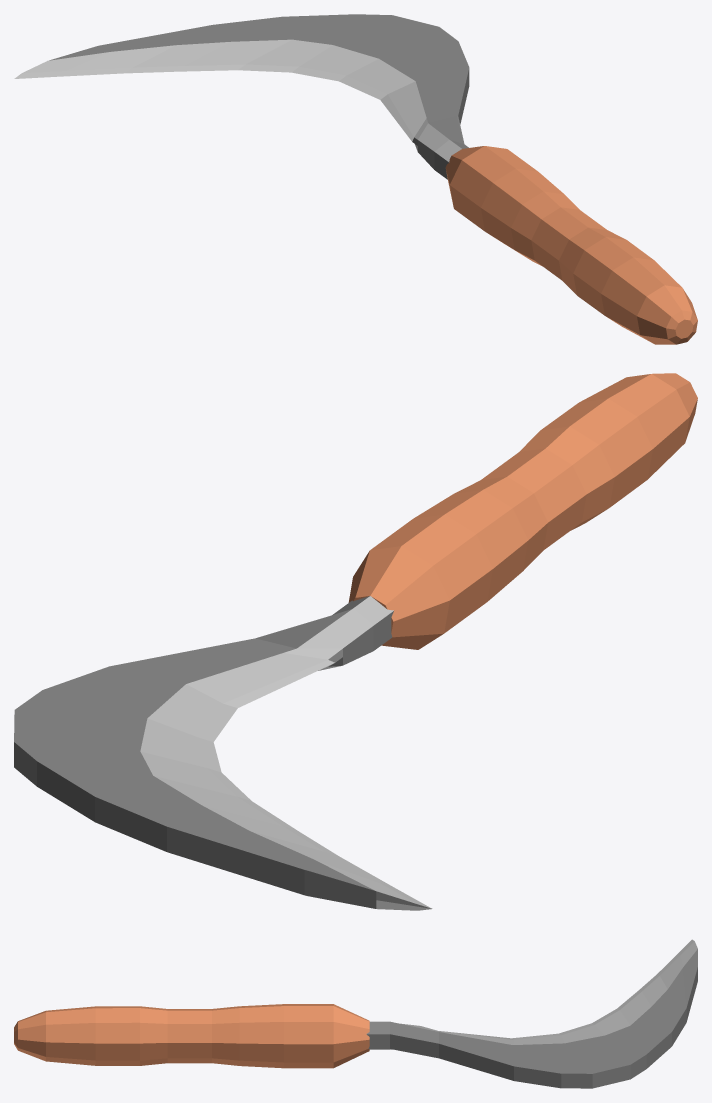
The model's file is sickle.glb.
3 views of the same model, one above another, from view 1: azimuth 30°, elevation 25°; view 2: azimuth 150°, elevation 25°; view 3: azimuth 270°, elevation 25° (orthographic). The views are drawn at different scales.
Parts seen in each view (by area): view 1: Sickle; view 2: Sickle; view 3: Sickle.
Part boxes in pixels (left/top/right/bottom): Sickle: left=14, top=14, right=697, bottom=344; Sickle: left=14, top=373, right=697, bottom=910; Sickle: left=14, top=939, right=697, bottom=1088.
Bounding box in the file's own units: 1.05 × 0.1995 × 2.15.
